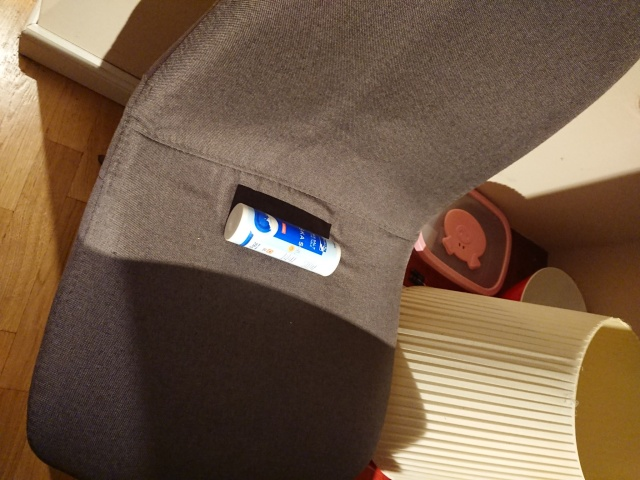Solana Pag Fine Sea Salt 250g: (218, 198, 345, 281)
